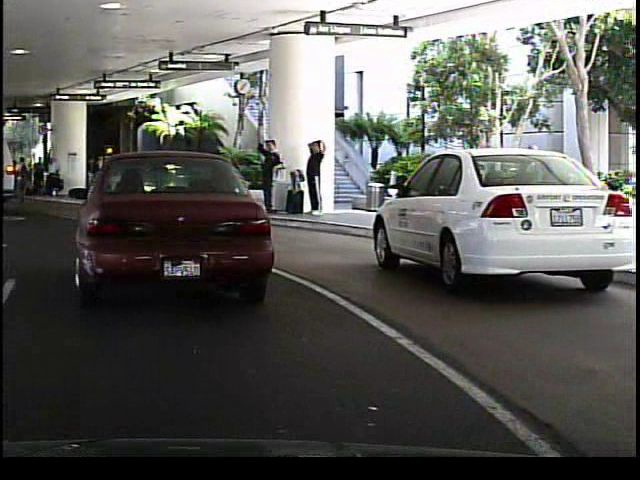person: (301, 133, 325, 218), (253, 132, 279, 202), (304, 148, 326, 213), (144, 155, 163, 196)
